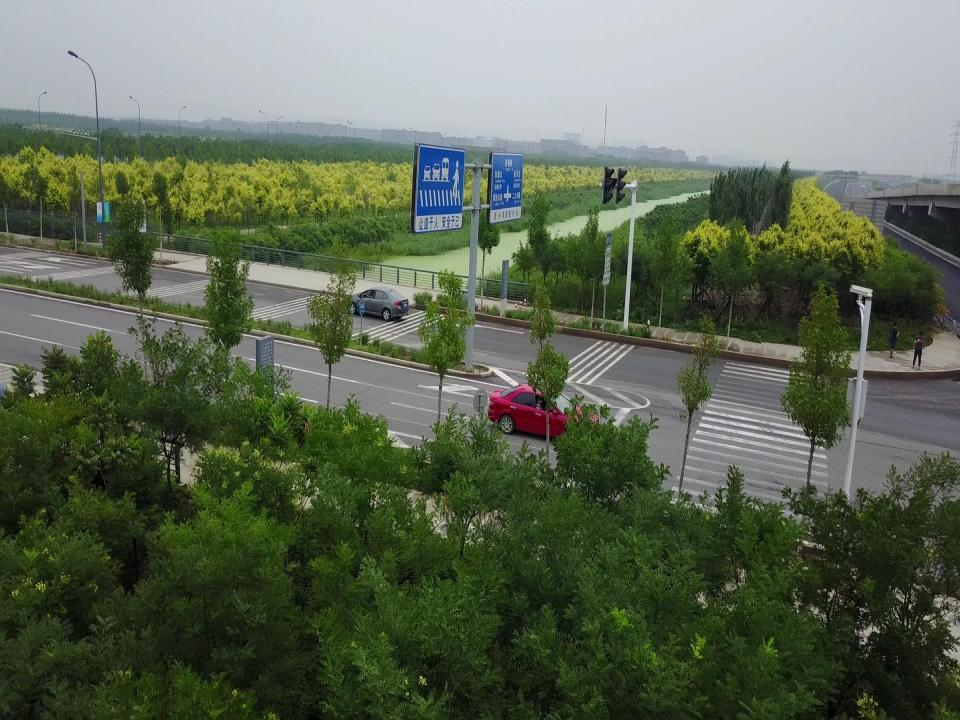car: (488, 387, 600, 441), (342, 288, 410, 322)
